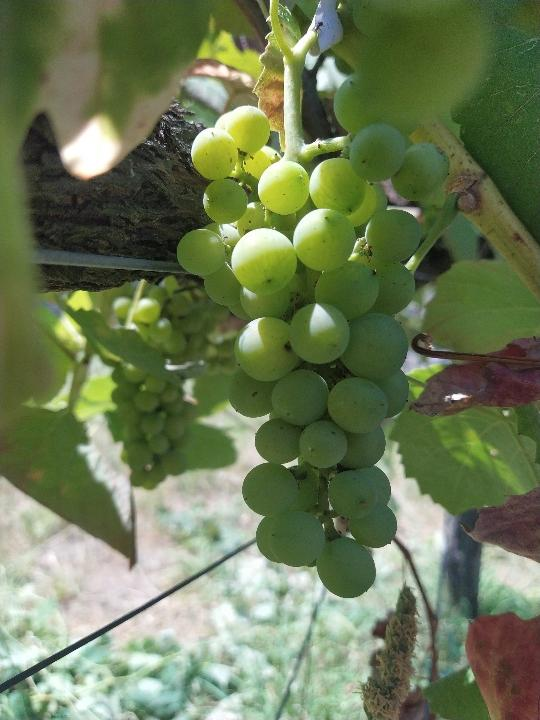grape: (173, 102, 455, 600)
